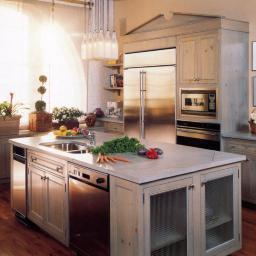Electrodomestico: (125, 56, 178, 142), (68, 163, 109, 255)
Lavaplatos: (43, 131, 98, 160)
